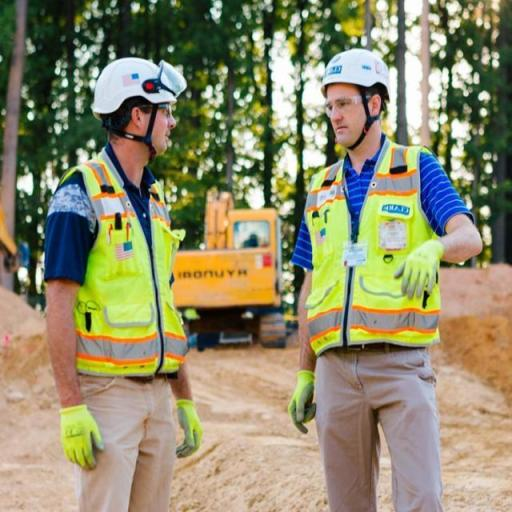Person: (25, 31, 235, 508), (275, 31, 480, 508)
gloves: (388, 225, 452, 311), (50, 396, 112, 476), (281, 362, 325, 439), (166, 386, 205, 462)
goggles: (319, 92, 372, 118), (138, 100, 180, 118)
helmet: (78, 51, 194, 138), (312, 37, 402, 101)
vest: (44, 161, 189, 392), (304, 154, 443, 351)
